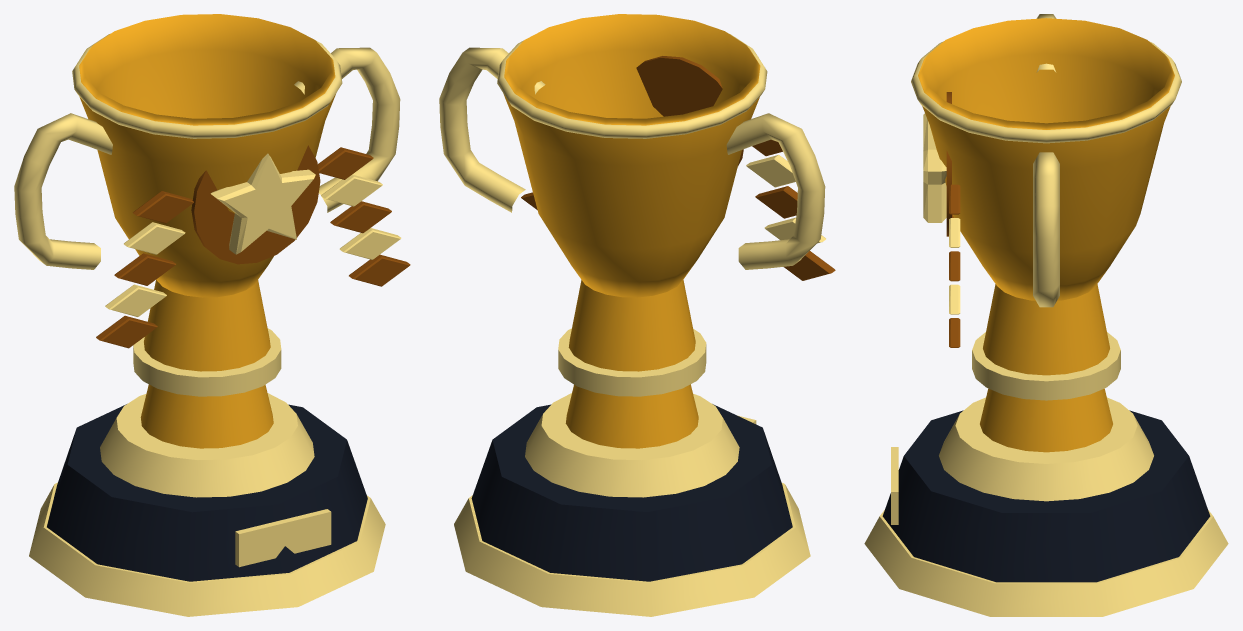
File: trophy-low.glb
The picture shows the model from 3 angles, left to right: view 1: azimuth 30°, elevation 25°; view 2: azimuth 150°, elevation 25°; view 3: azimuth 270°, elevation 25°; orthographic projection.
Parts seen in each view (by area): view 1: Hollow lathed trophy bowl, Black polygonal pedestal, Gold pedestal foot, Pedestal shoulder, Tapered trophy neck, Trophy stem, Left curled trophy handle, Raised five-point trophy star, Dark star medallion inset, Right curled trophy handle, Trophy neck collar, Continuous cup lip (+11 smaller); view 2: Hollow lathed trophy bowl, Black polygonal pedestal, Gold pedestal foot, Pedestal shoulder, Tapered trophy neck, Trophy stem, Left curled trophy handle, Right curled trophy handle, Trophy neck collar, Continuous cup lip, Dark star medallion inset, Left laurel leaf 2 (+2 smaller); view 3: Hollow lathed trophy bowl, Black polygonal pedestal, Gold pedestal foot, Pedestal shoulder, Tapered trophy neck, Trophy stem, Trophy neck collar, Continuous cup lip, Right curled trophy handle, Raised five-point trophy star, Blank gold award plate.
Part boxes in pixels (bbox=[...]): Hollow lathed trophy bowl: bbox=[79, 14, 335, 297]; Black polygonal pedestal: bbox=[47, 404, 367, 581]; Gold pedestal foot: bbox=[29, 482, 385, 616]; Pedestal shoulder: bbox=[100, 393, 314, 497]; Tapered trophy neck: bbox=[144, 280, 270, 371]; Trophy stem: bbox=[140, 384, 273, 448]; Left curled trophy handle: bbox=[14, 113, 112, 269]; Raised five-point trophy star: bbox=[210, 153, 315, 254]; Dark star medallion inset: bbox=[191, 145, 320, 264]; Right curled trophy handle: bbox=[294, 47, 400, 212]; Trophy neck collar: bbox=[133, 328, 281, 396]; Continuous cup lip: bbox=[72, 33, 342, 138]; Hollow lathed trophy bowl: bbox=[503, 14, 760, 297]; Black polygonal pedestal: bbox=[471, 404, 792, 581]; Gold pedestal foot: bbox=[454, 483, 810, 616]; Pedestal shoulder: bbox=[525, 393, 739, 497]; Tapered trophy neck: bbox=[568, 280, 695, 371]; Trophy stem: bbox=[565, 384, 698, 448]; Left curled trophy handle: bbox=[726, 113, 825, 269]; Right curled trophy handle: bbox=[439, 47, 545, 212]; Trophy neck collar: bbox=[558, 328, 706, 396]; Continuous cup lip: bbox=[497, 33, 767, 138]; Dark star medallion inset: bbox=[636, 56, 743, 165]; Left laurel leaf 2: bbox=[746, 155, 795, 187]; Hollow lathed trophy bowl: bbox=[918, 18, 1174, 300]; Black polygonal pedestal: bbox=[882, 410, 1210, 582]; Gold pedestal foot: bbox=[864, 509, 1228, 616]; Pedestal shoulder: bbox=[939, 397, 1153, 501]; Tapered trophy neck: bbox=[983, 284, 1109, 375]; Trophy stem: bbox=[980, 388, 1112, 452]; Trophy neck collar: bbox=[972, 332, 1120, 400]; Continuous cup lip: bbox=[911, 41, 1181, 143]; Right curled trophy handle: bbox=[1033, 152, 1059, 307]; Raised five-point trophy star: bbox=[923, 113, 946, 222]; Blank gold award plate: bbox=[891, 447, 898, 524].
Size of the model in its own units: 1.44 by 1.72 by 1.2.
